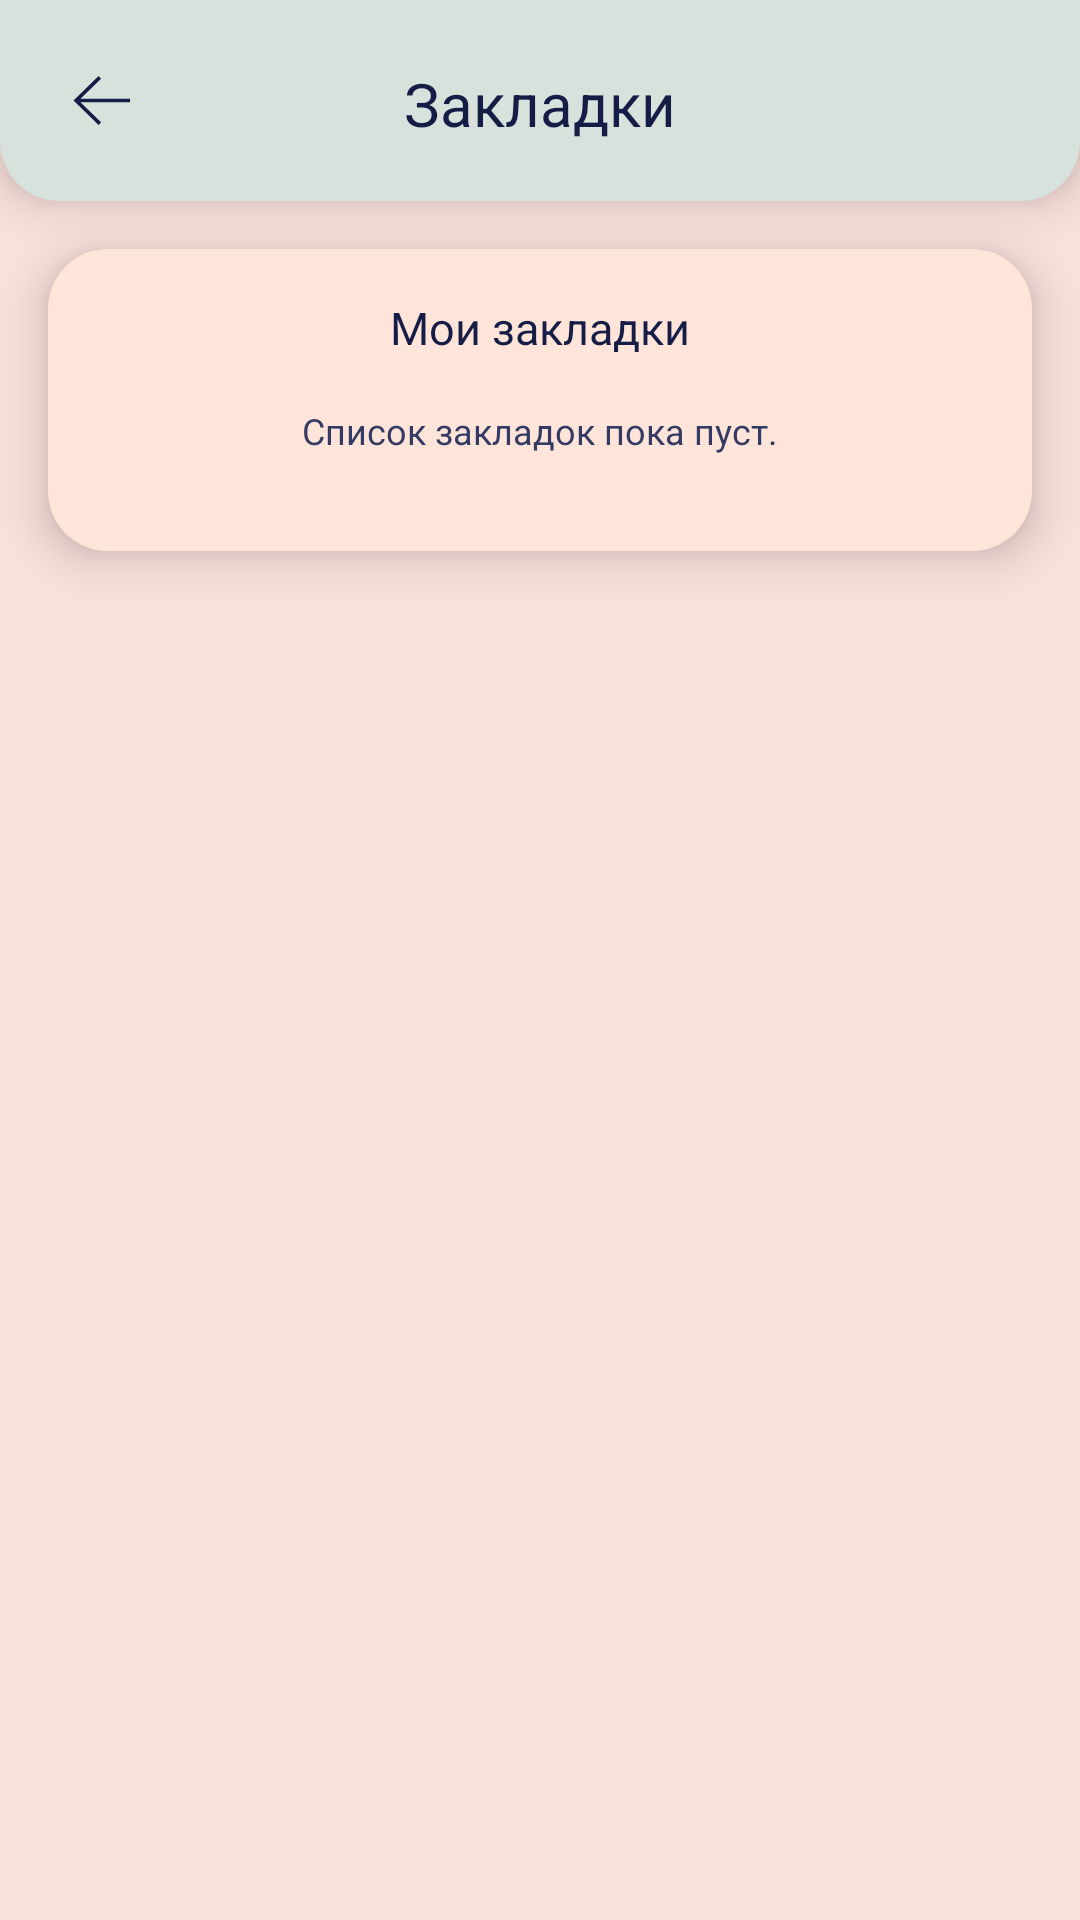

Where to tap for icons on this 1080px×1920px app screen, as (x,y):
arrow: (101,100)
